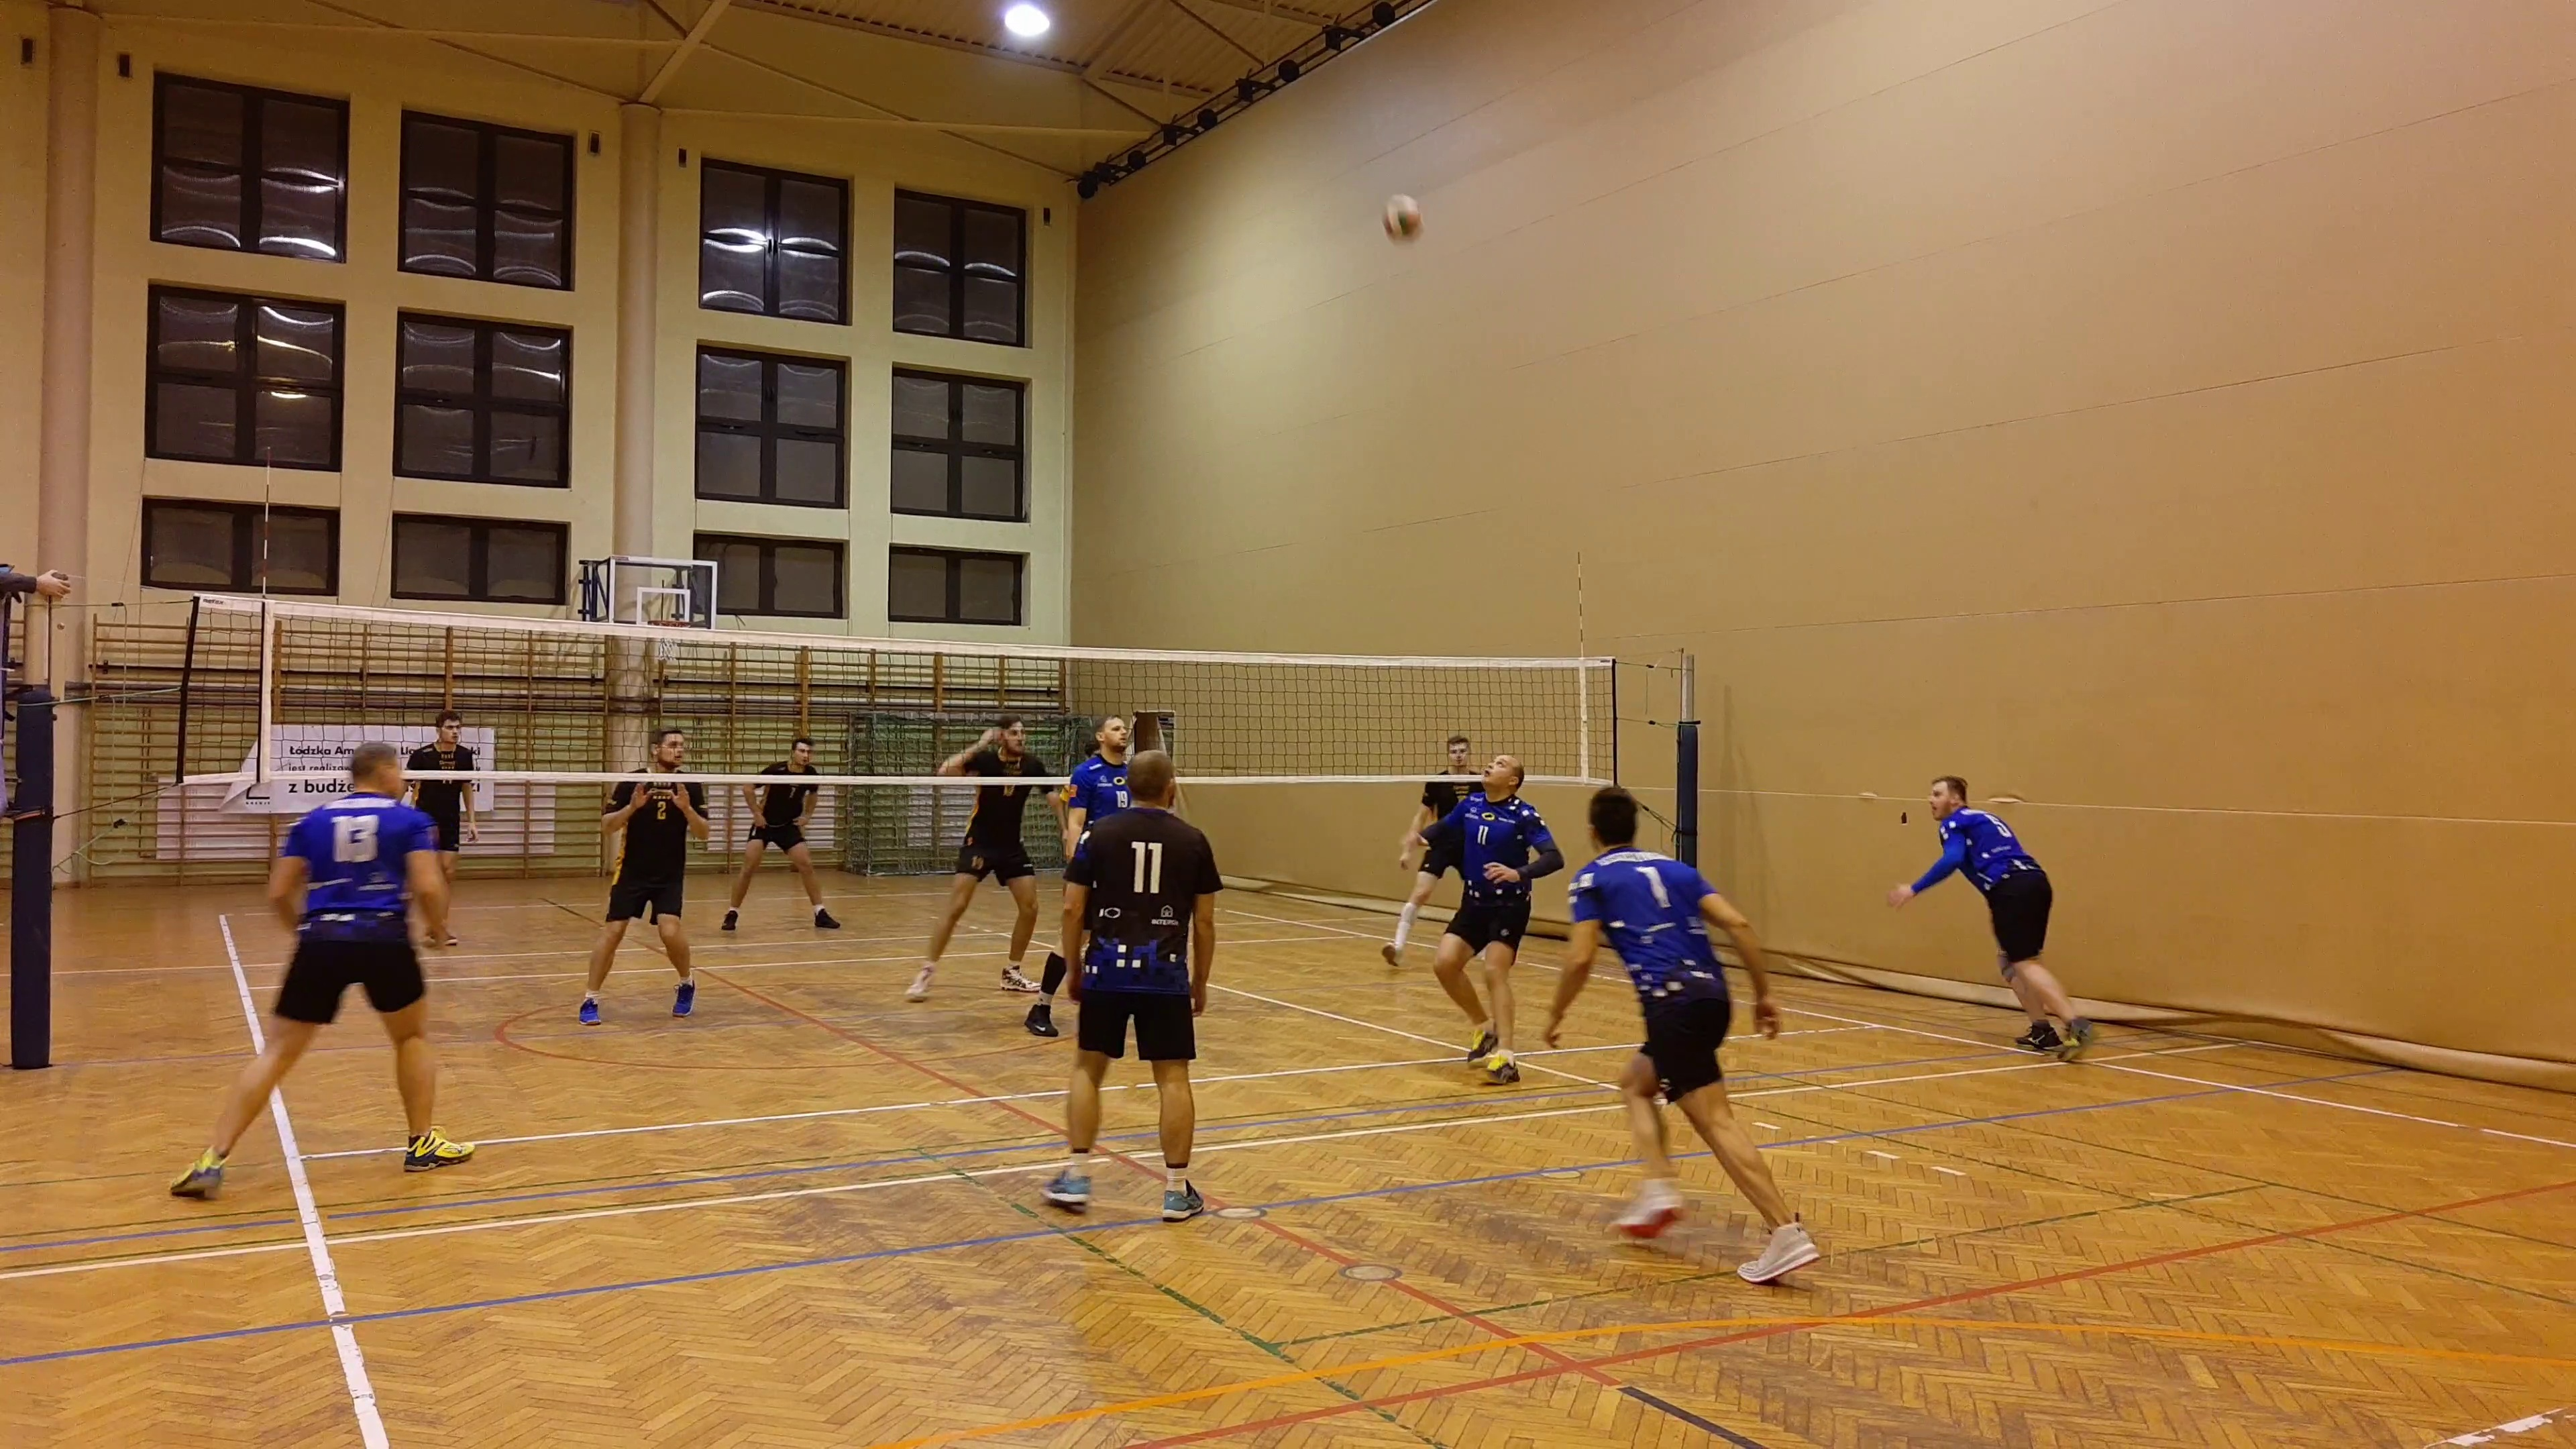ball: (1380, 202, 1424, 244)
